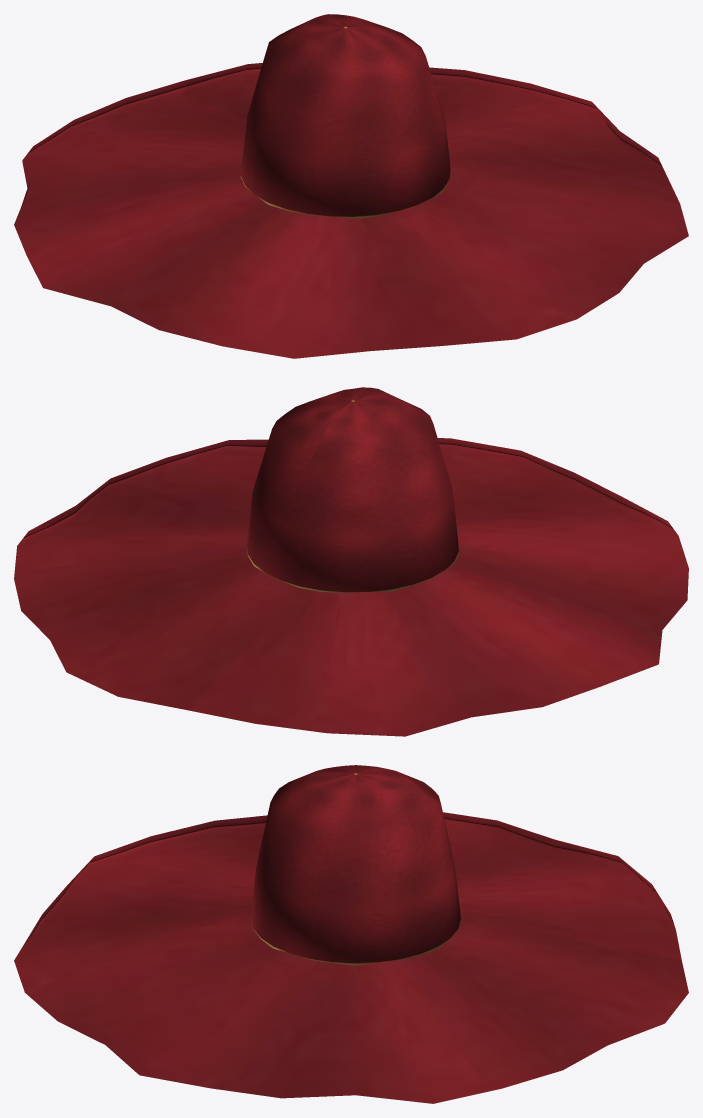
Rendered from crimson_wide_head.glb.
3 renders of one model, top to bottom at view 1: azimuth 30°, elevation 25°; view 2: azimuth 150°, elevation 25°; view 3: azimuth 270°, elevation 25°, orthographic.
Parts seen in each view (by area): view 1: crimson_wide_head; view 2: crimson_wide_head; view 3: crimson_wide_head.
Boxes of the visible parts, x1=… form: crimson_wide_head: x1=14, y1=14, x2=688, y2=358; crimson_wide_head: x1=14, y1=387, x2=688, y2=736; crimson_wide_head: x1=14, y1=765, x2=688, y2=1103.
Size of the model in its own units: 0.55 by 0.1647 by 0.5394.
1 material, 1 textured.
